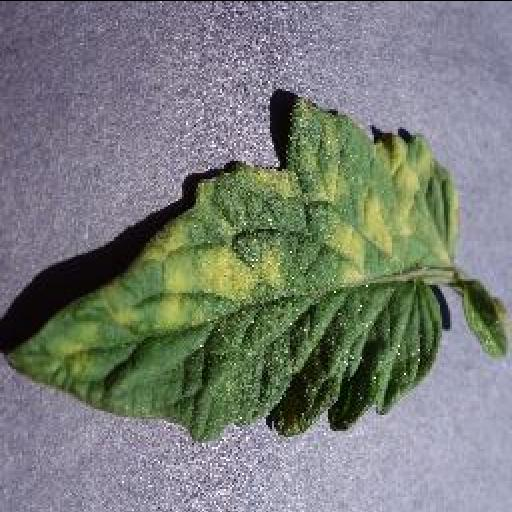disease_tomato: (2, 94, 458, 440)
